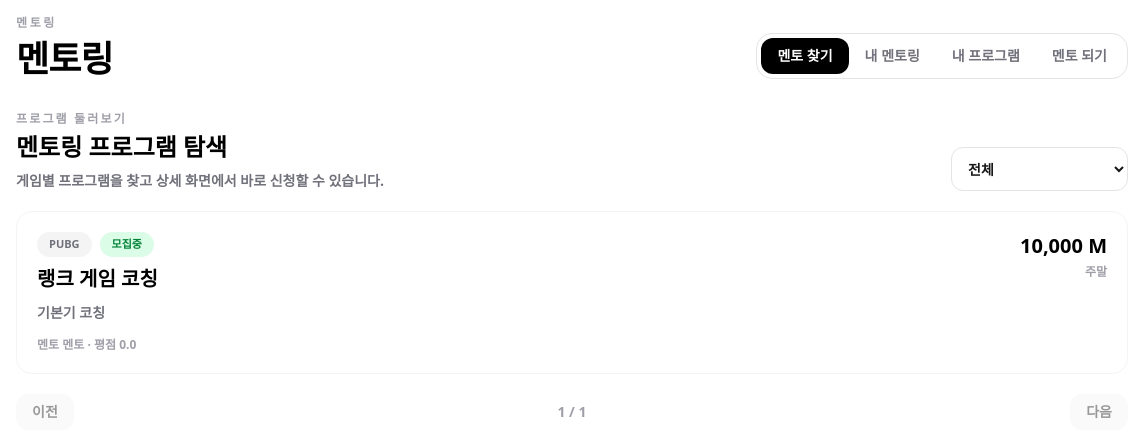
Test: MentoringPage game filter › 필터 선택지는 /games 응답이고, 선택한 코드로 조회하며, 빈 결과에서 초기화한다
Check: the heading "랭크 게임 코칭" is shown, box [37,264,158,292]
Check: the button "필터 초기화" is not shown
Select "League of Legends" in the dropdown. click: (1040, 169)
box: [951,147,1128,191]
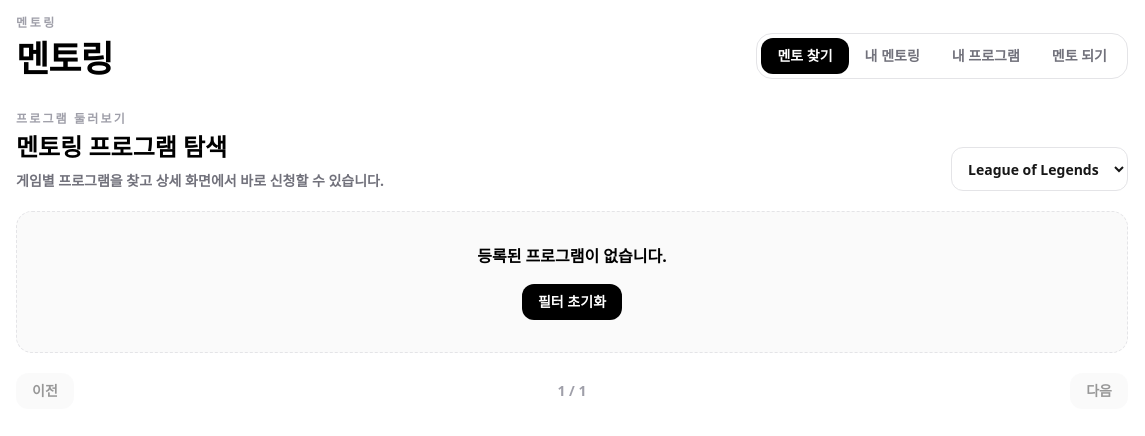
Check: the button "랭크 게임 코칭" is gone
Click the button "필터 초기화". click: (572, 302)
box: [522,284,622,320]
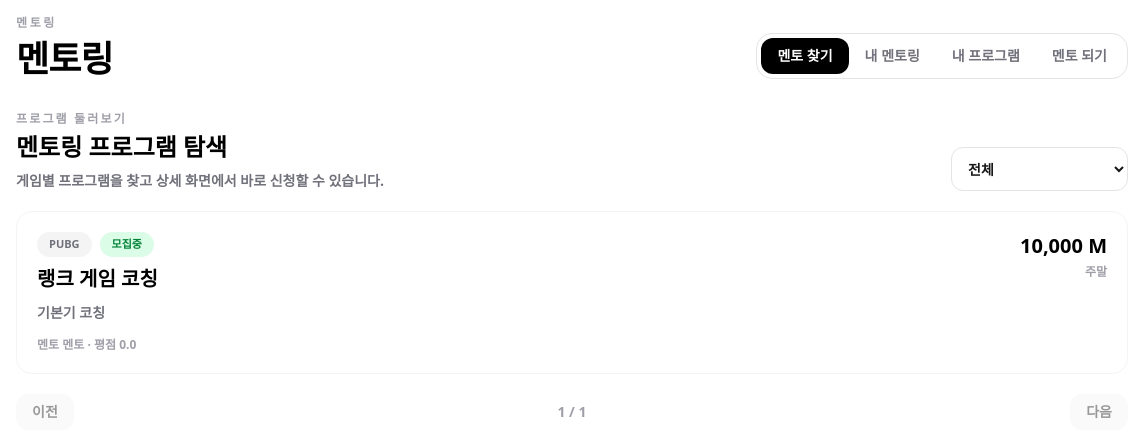
Check: the heading "랭크 게임 코칭" is shown, box [37,264,158,292]
Check: the button "필터 초기화" is gone
